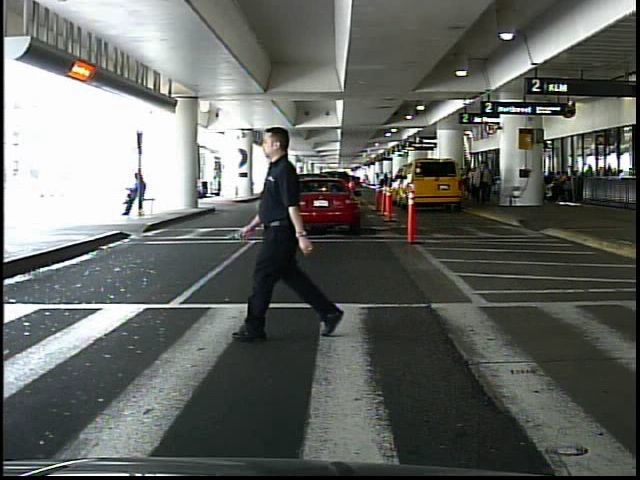person: (232, 122, 355, 342), (475, 162, 492, 208)
